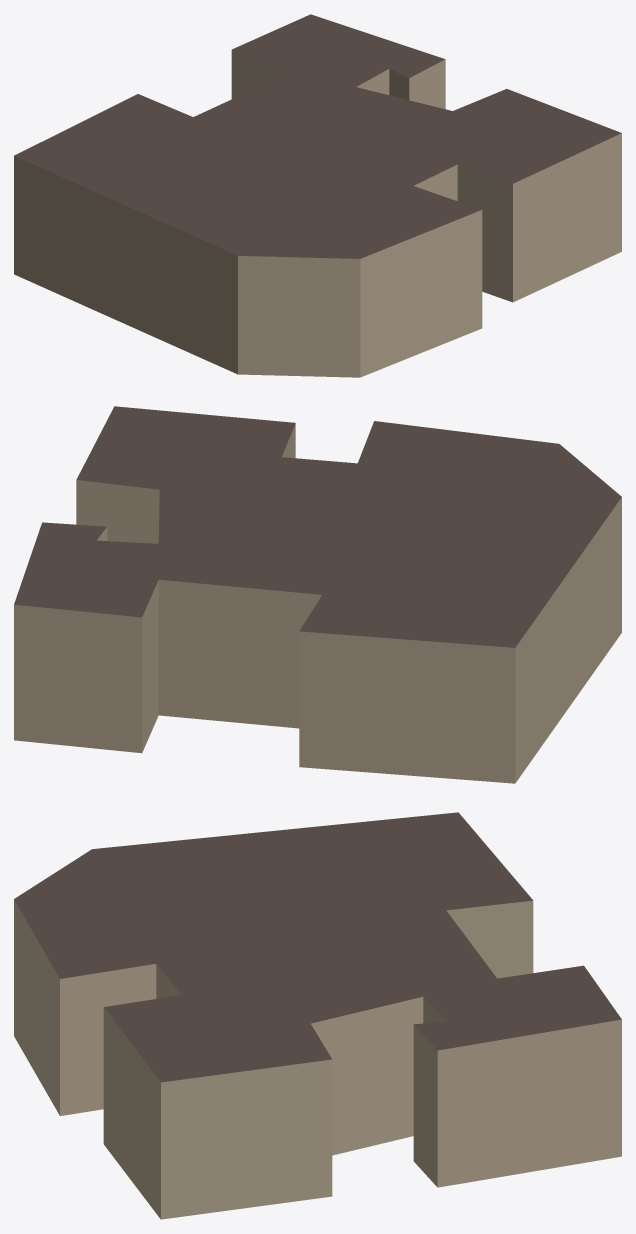
3 views of the same model, one above another, from view 1: azimuth 30°, elevation 25°; view 2: azimuth 150°, elevation 25°; view 3: azimuth 270°, elevation 25° (orthographic). The views are drawn at different scales.
Parts seen in each view (by area): view 1: HP-w1513026707; view 2: HP-w1513026707; view 3: HP-w1513026707.
Part boxes in pixels (box(x1,y1,x2,y2)): HP-w1513026707: box(14, 14, 621, 377); HP-w1513026707: box(14, 406, 621, 783); HP-w1513026707: box(14, 812, 621, 1219).
Bounding box in the file's own units: 38.03 × 9 × 36.17.
